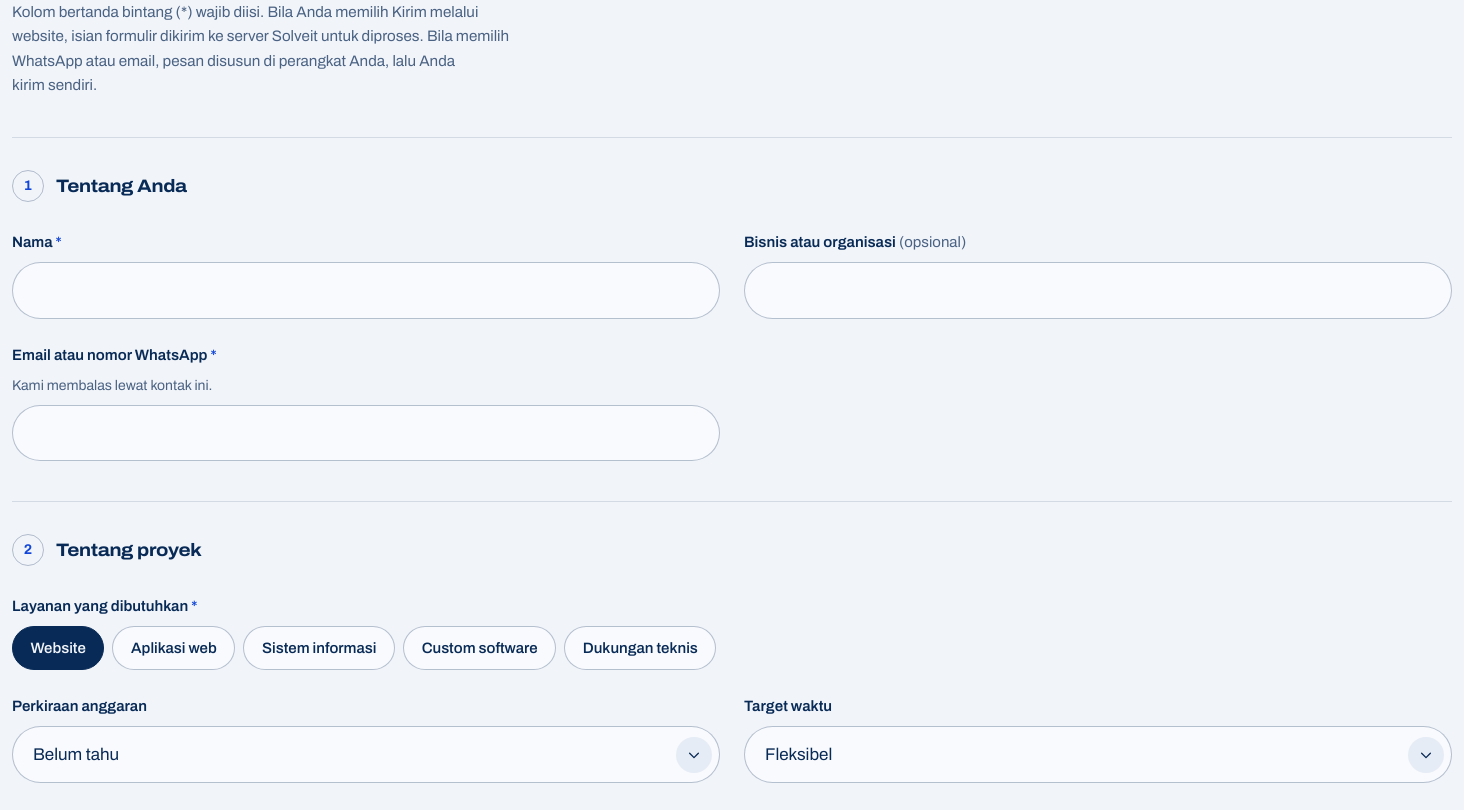
Scenario: InquiryForm with the website channel › never shows success for a malformed 201
The width and height of the screenshot is (1464, 810).
Step 1. Type "Rina Wulandari" into the field labelled "Nama *" → (366, 290), box [12, 262, 720, 319]
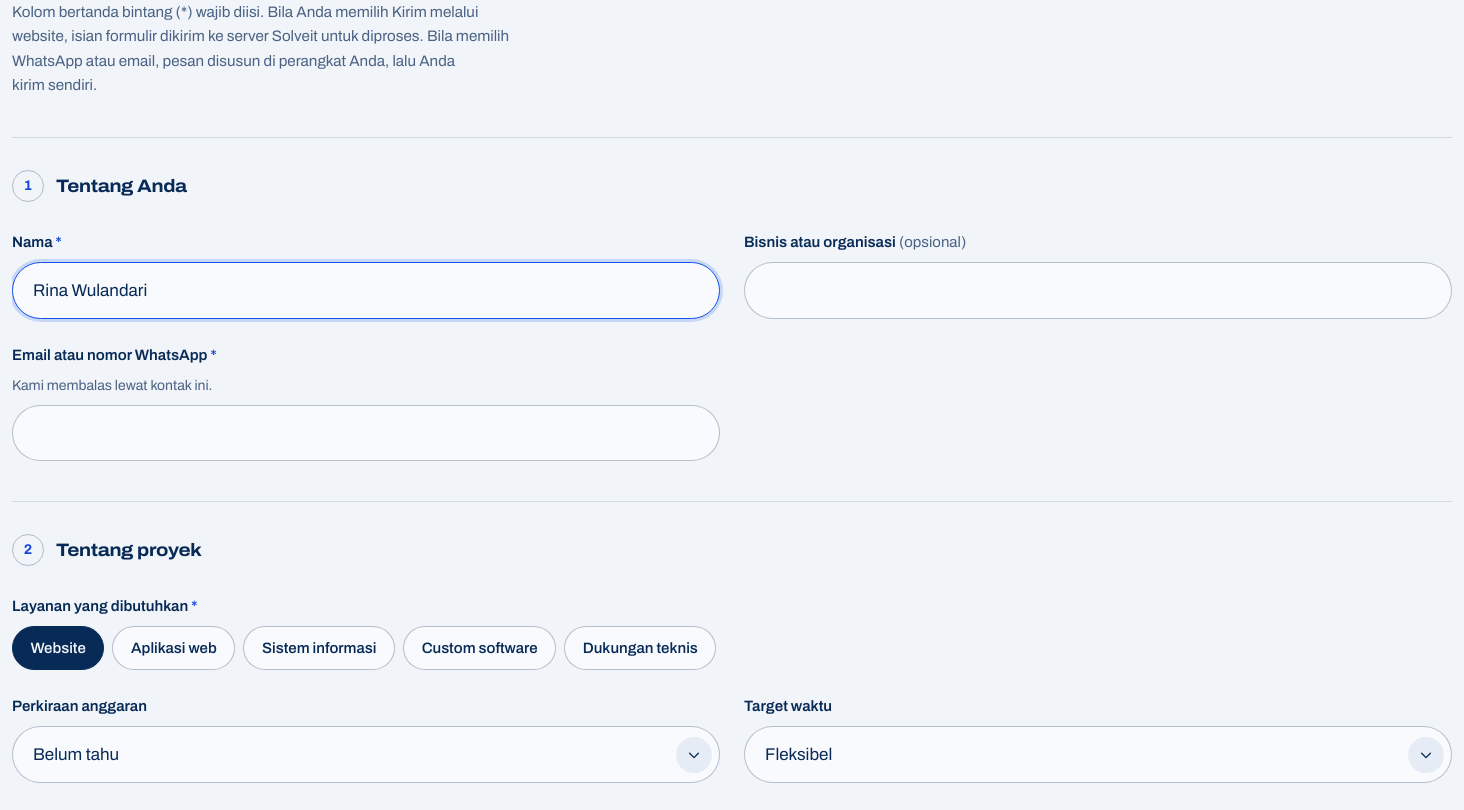
Step 2. Type "rina@example.com" into the field labelled "Email atau nomor WhatsApp *" → (366, 433), box [12, 405, 720, 461]
(page scrolled)
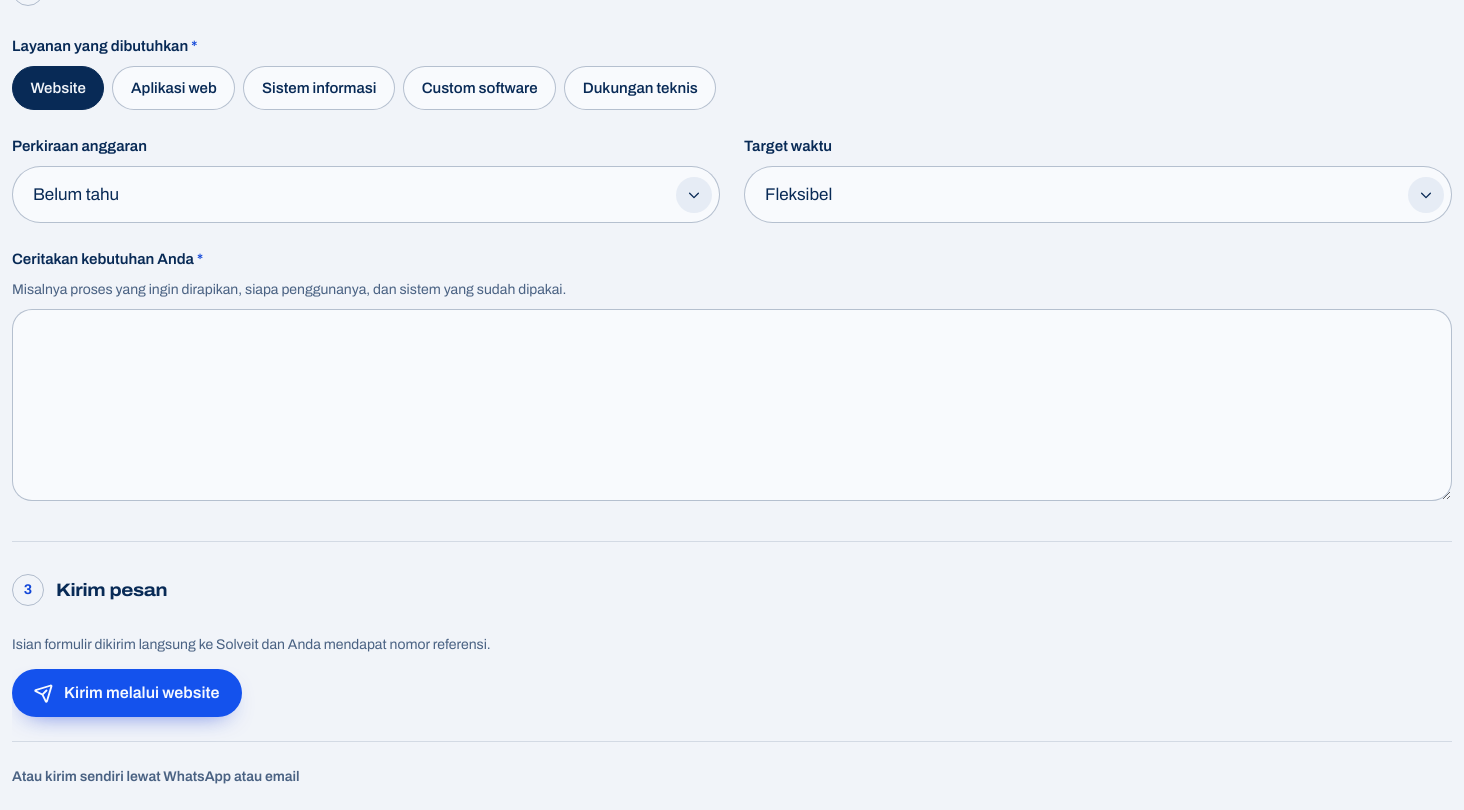
Step 3. Type "Kami butuh website profil dengan katalog produk." into the text box labelled "Ceritakan kebutuhan Anda *" → (732, 405), box [12, 309, 1452, 502]
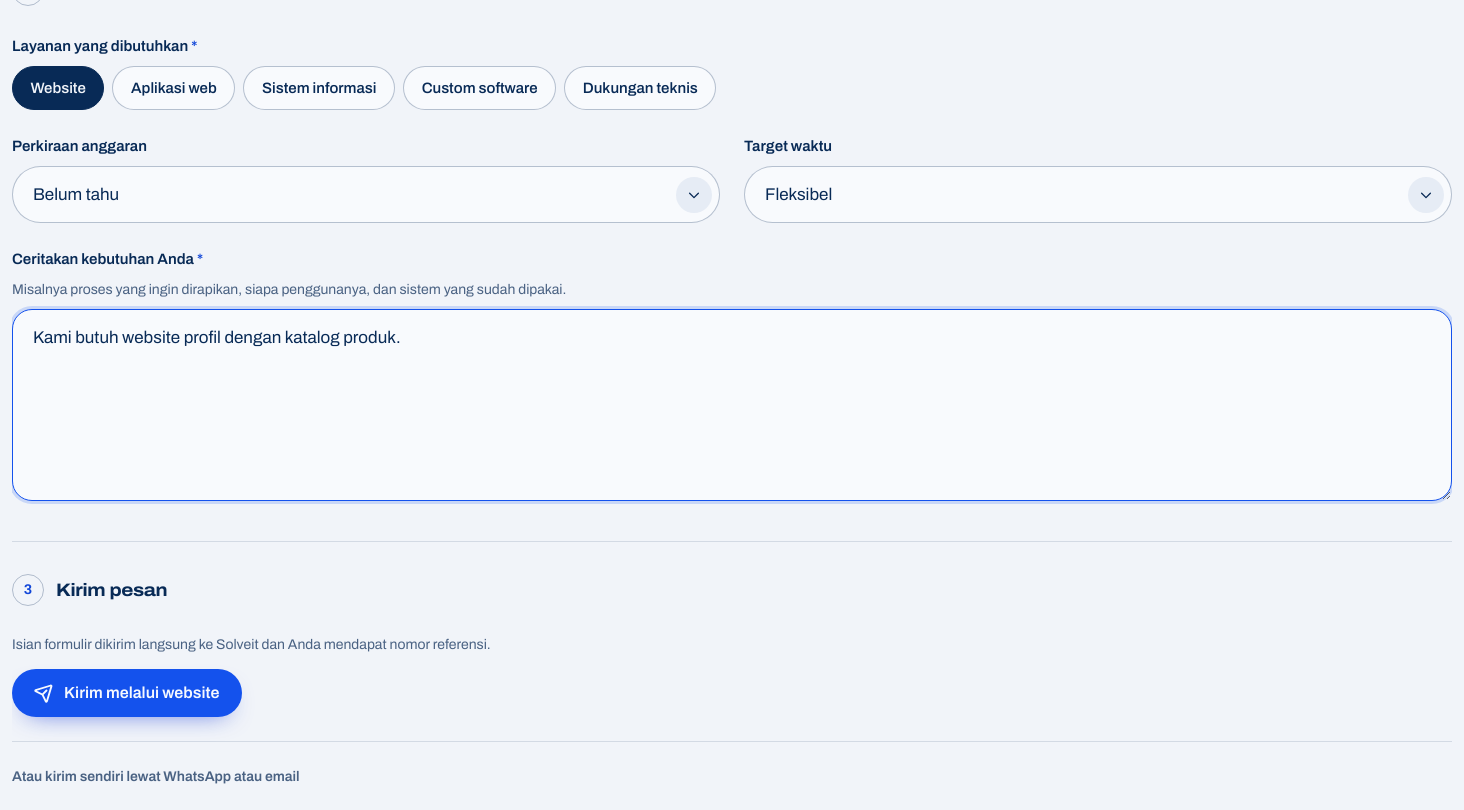
Step 4. Click the button "Kirim melalui website" → (127, 693), box [12, 669, 242, 717]
(page scrolled)
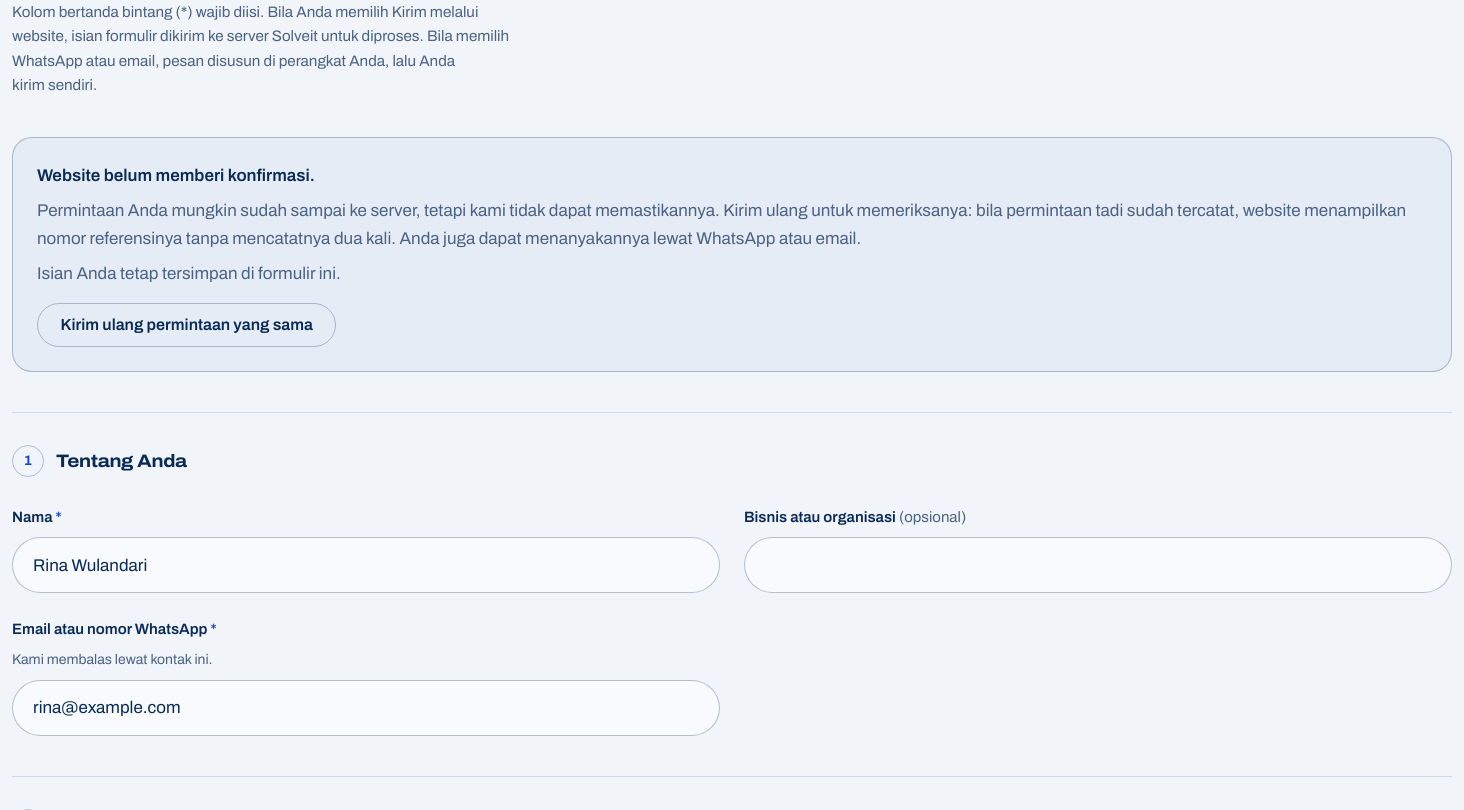
Now the message shows "Website belum memberi konfirmasi.", box [37, 166, 315, 185]
